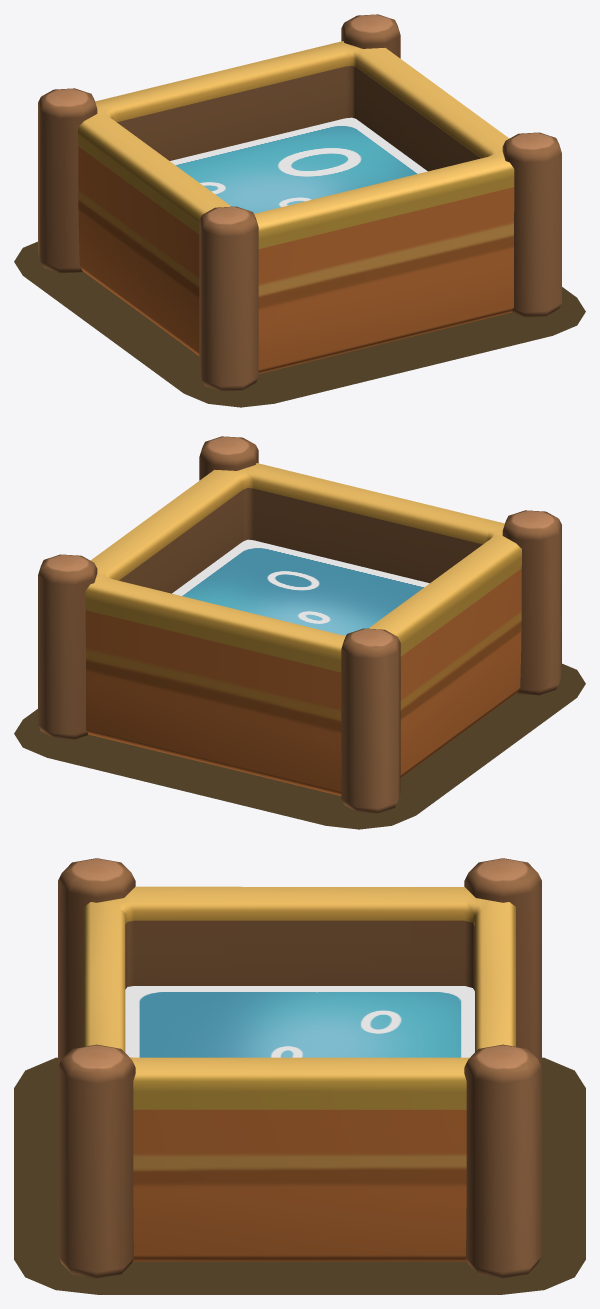
The model's file is WoodBox_Water.fbx.
3 renders of one model, top to bottom at view 1: azimuth 30°, elevation 25°; view 2: azimuth 150°, elevation 25°; view 3: azimuth 270°, elevation 25°, orthographic. The views are drawn at different scales.
Parts seen in each view (by area): view 1: Woodbox_body, Woodbox_SDW, Water; view 2: Woodbox_body, Woodbox_SDW, Water; view 3: Woodbox_body, Woodbox_SDW, Water.
Part boxes in pixels (x1,y1,x2,y2): Woodbox_body: (38,14,561,391); Woodbox_SDW: (14,241,585,407); Water: (170,117,427,213); Woodbox_body: (38,436,561,813); Woodbox_SDW: (14,663,585,829); Water: (172,539,429,635); Woodbox_body: (58,858,541,1278); Woodbox_SDW: (14,1057,585,1294); Water: (125,986,474,1057).
Bounding box in the file's own units: 118 × 48 × 118.
Materials: 3 (2 with a texture image).
